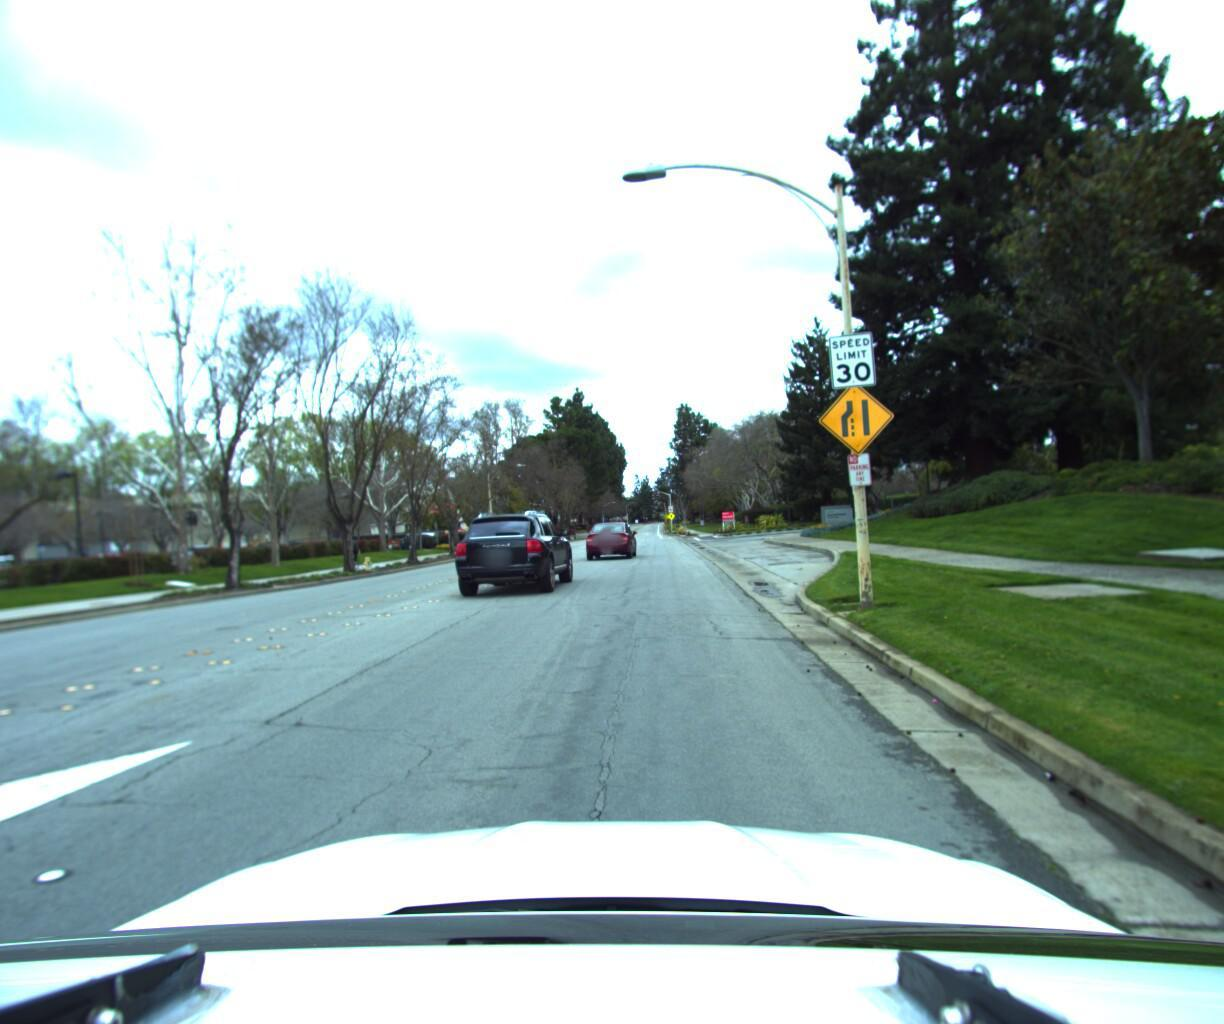bicycle: (336, 532, 366, 569)
car: (446, 505, 578, 596), (582, 518, 638, 560)
